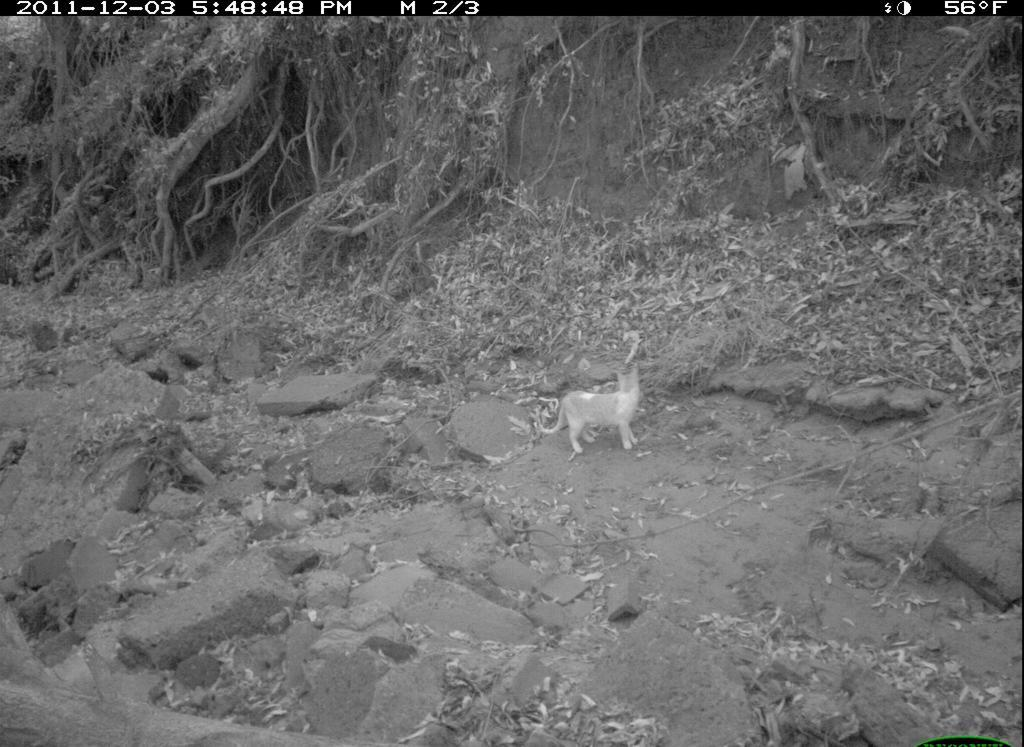cat: (533, 374, 657, 460)
